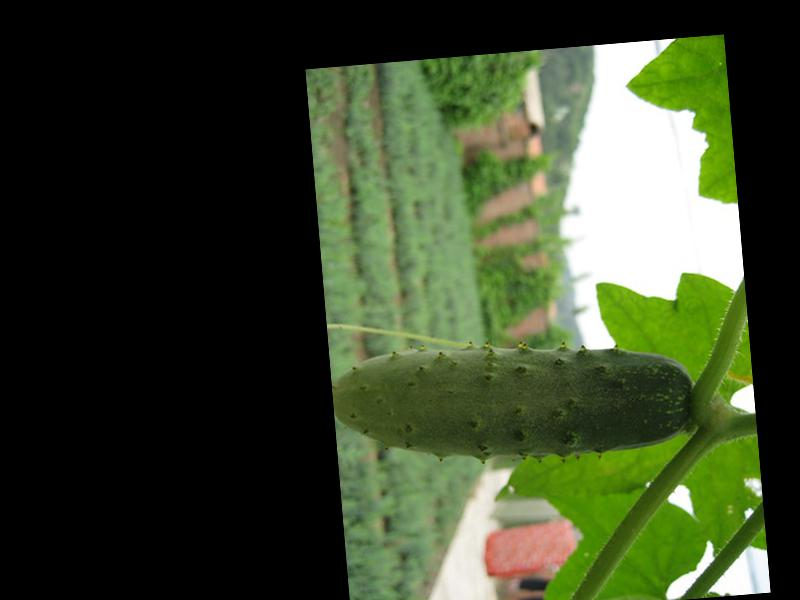Cucumber: (330, 329, 697, 474)
